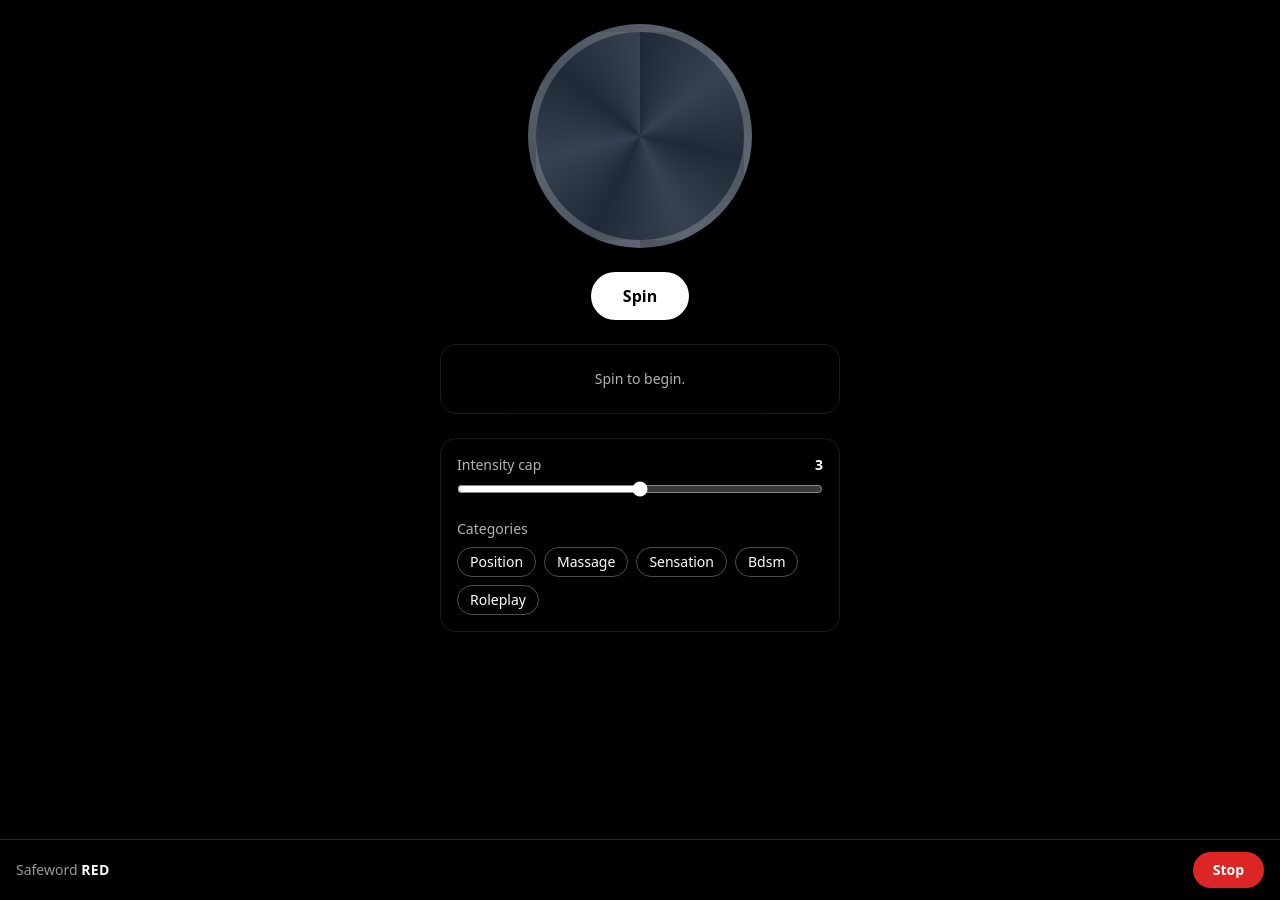
Test: SpinSession › spinning displays the item the server returned
The width and height of the screenshot is (1280, 900).
Expected: the text "RED" is shown, left=81, top=860, right=110, bottom=879
Click the button "Spin" at {"x": 640, "y": 296}, box left=591, top=272, right=689, bottom=320
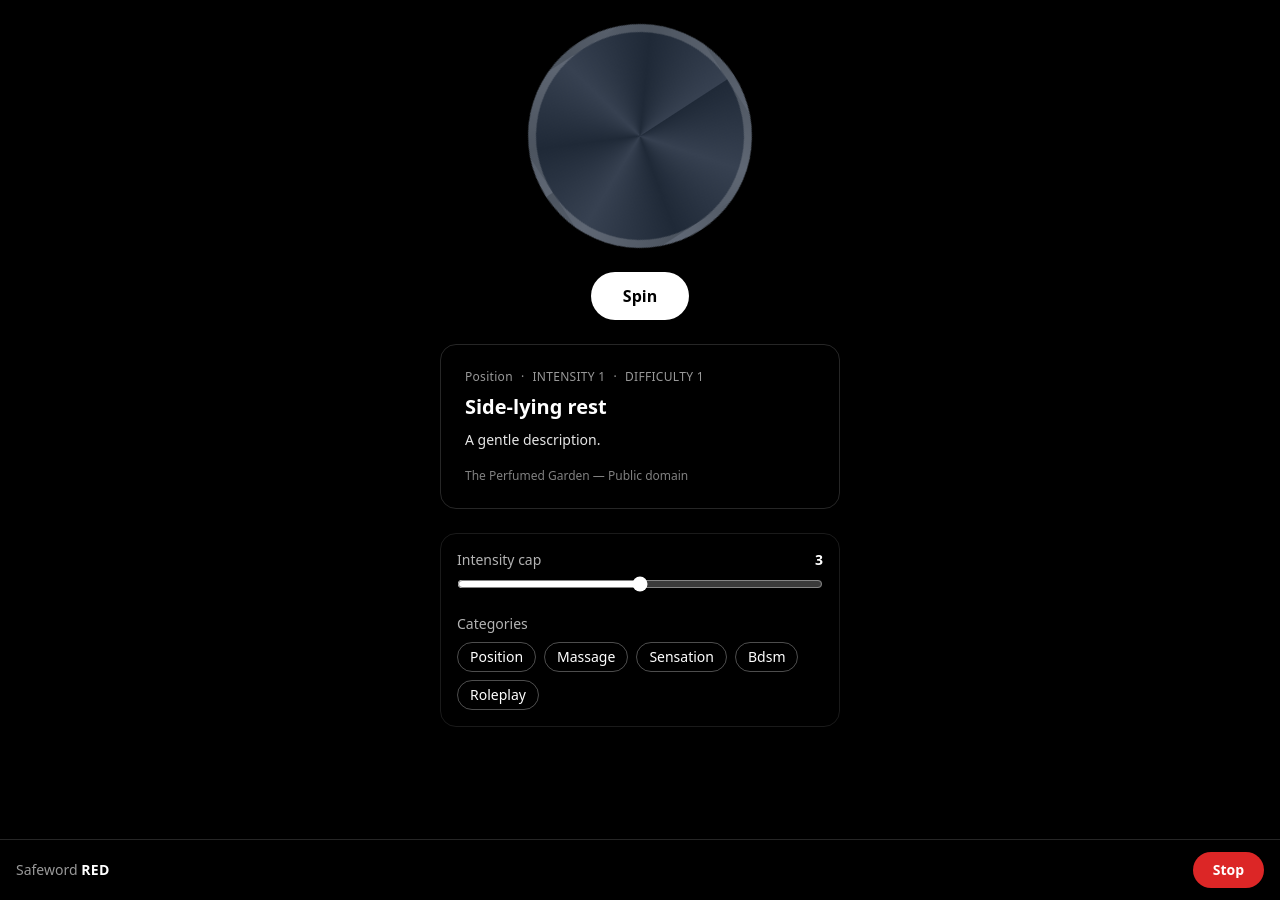
Expected: the heading "Side-lying rest" is shown, left=465, top=393, right=607, bottom=420
